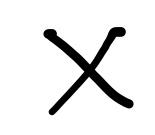plus: (43, 27, 134, 115)
